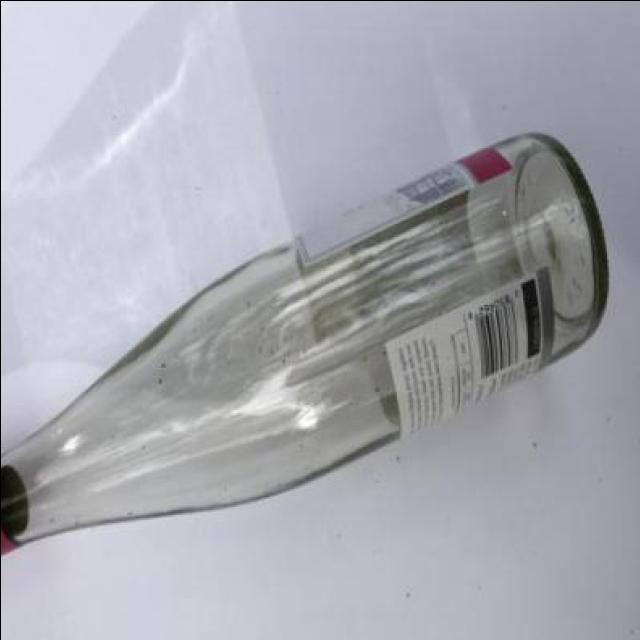kaca: (0, 131, 606, 556)
